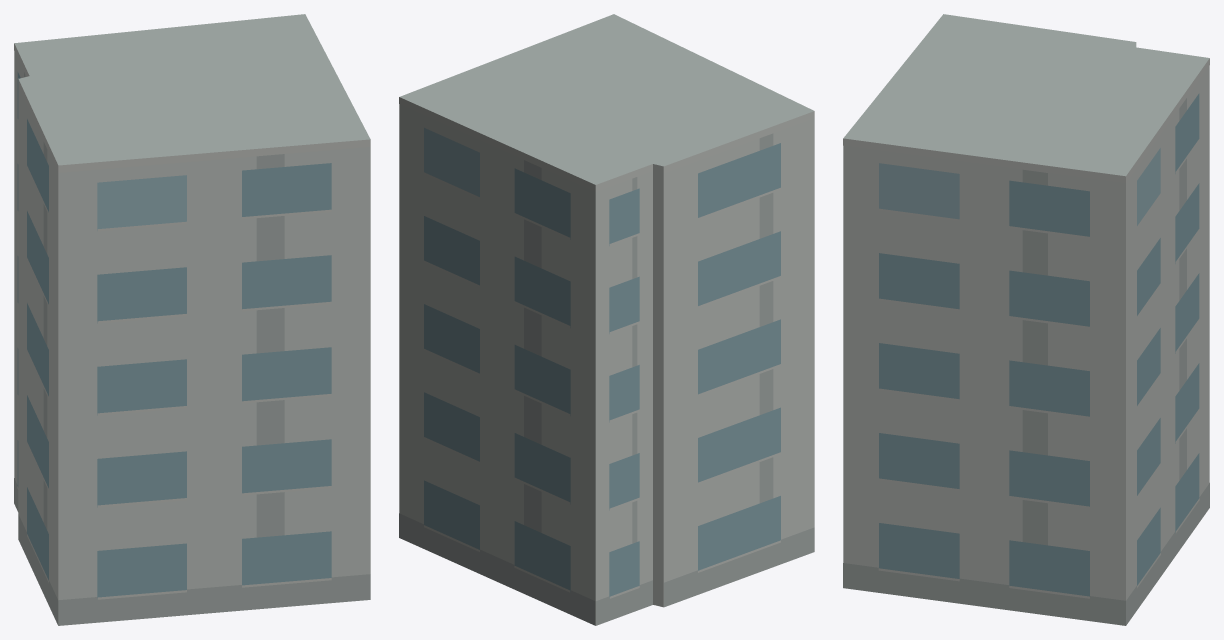
Rendered from survey-upis-32476790.glb.
The picture shows the model from 3 angles, left to right: view 1: azimuth 30°, elevation 25°; view 2: azimuth 150°, elevation 25°; view 3: azimuth 270°, elevation 25°; orthographic projection. The views are drawn at different scales.
Visible parts, largest first — view 1: survey-upis-32476790.tmp; view 2: survey-upis-32476790.tmp; view 3: survey-upis-32476790.tmp.
Boxes of the visible parts, x1=… form: survey-upis-32476790.tmp: x1=14, y1=14, x2=370, y2=625; survey-upis-32476790.tmp: x1=399, y1=14, x2=814, y2=625; survey-upis-32476790.tmp: x1=843, y1=14, x2=1209, y2=625.
Size of the model in its own units: 11.69 by 15.1 by 11.17.
